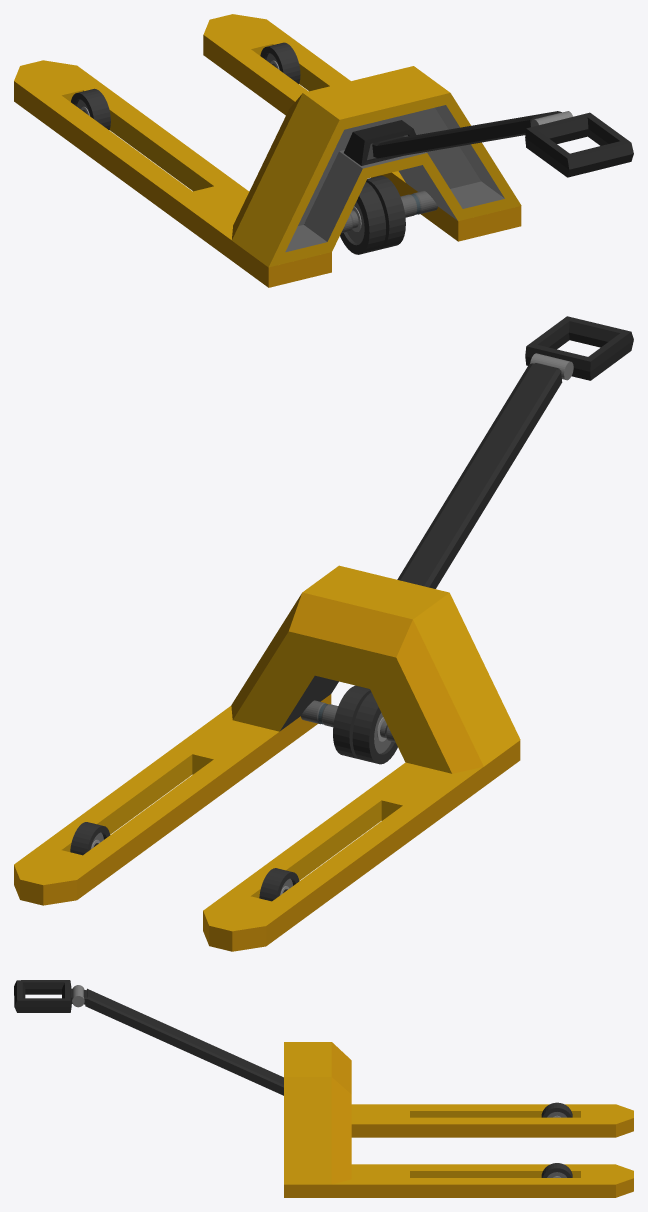
Rendered from Pallet Jack.fbx.
3 renders of one model, top to bottom at view 1: azimuth 30°, elevation 25°; view 2: azimuth 150°, elevation 25°; view 3: azimuth 270°, elevation 25°, orthographic. The views are drawn at different scales.
Visible parts, largest first — view 1: Pallet Jack; view 2: Pallet Jack; view 3: Pallet Jack.
Boxes of the visible parts, <box> form: Pallet Jack: <box>14,14,633,287</box>; Pallet Jack: <box>14,316,633,951</box>; Pallet Jack: <box>14,980,633,1197</box>.
Bounding box in the file's own units: 88.54 × 88.93 × 288.
Materials: 1 (1 with a texture image).
